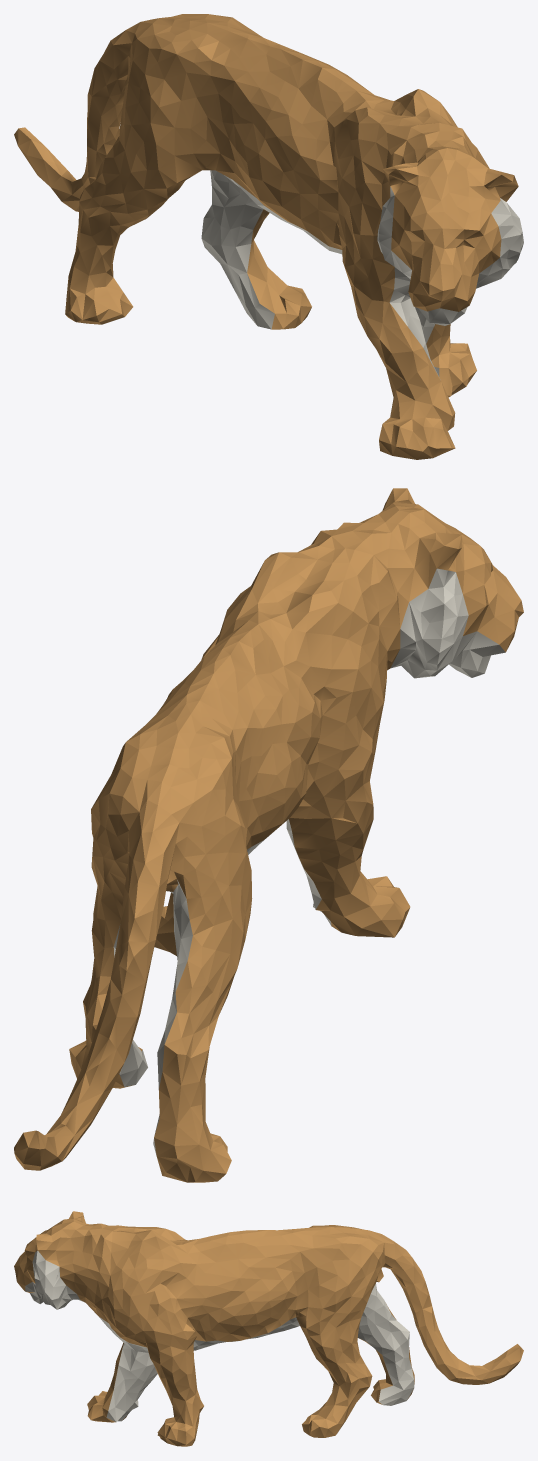
File: tiger.glb
3 views of the same model, one above another, from view 1: azimuth 30°, elevation 25°; view 2: azimuth 150°, elevation 25°; view 3: azimuth 270°, elevation 25° (orthographic). The views are drawn at different scales.
Visible parts, largest first — view 1: Object_2, Object_3; view 2: Object_2, Object_3; view 3: Object_2, Object_3.
Part boxes in pixels (bbox=[...]): Object_2: bbox=[14, 14, 518, 459]; Object_3: bbox=[124, 170, 523, 379]; Object_2: bbox=[14, 488, 523, 1182]; Object_3: bbox=[113, 568, 505, 1155]; Object_2: bbox=[14, 1211, 523, 1446]; Object_3: bbox=[25, 1251, 414, 1422].
Bounding box in the file's own units: 0.4822 × 0.6704 × 1.48.
